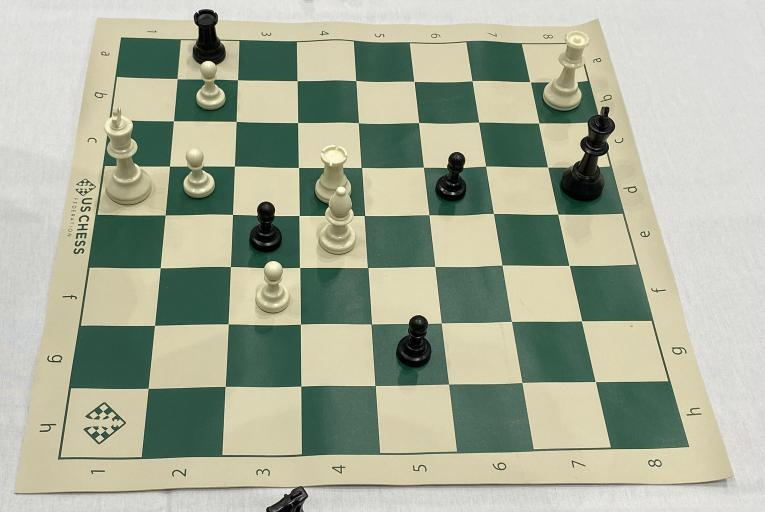black-king: (559, 102, 622, 208)
black-pawn: (394, 309, 438, 373), (245, 196, 288, 260), (430, 148, 473, 208)
black-rook: (186, 6, 232, 68)
white-bishop: (314, 185, 365, 263)
white-king: (97, 102, 158, 209)
white-pawn: (253, 259, 301, 321), (176, 146, 225, 203), (192, 59, 231, 115)
white-queen: (539, 26, 594, 112)
white-rook: (309, 137, 358, 208)
